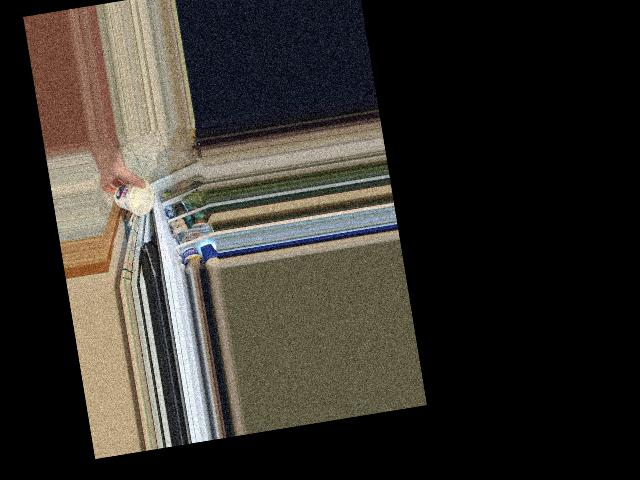cotage: (112, 173, 158, 217)
